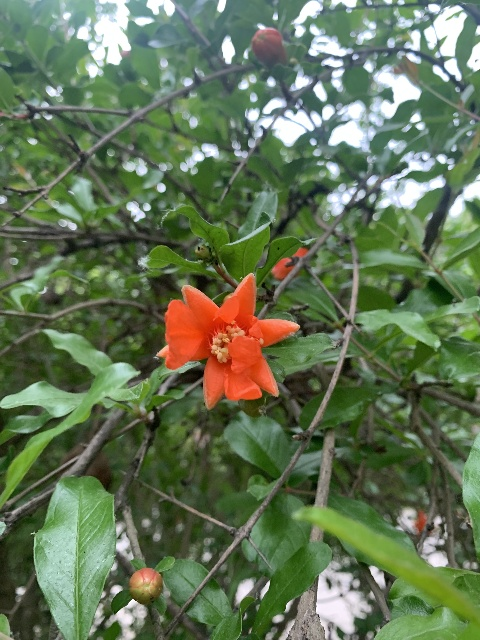bud: (128, 566, 163, 604), (251, 28, 284, 67), (271, 247, 308, 279)
flower: (156, 272, 300, 409)
